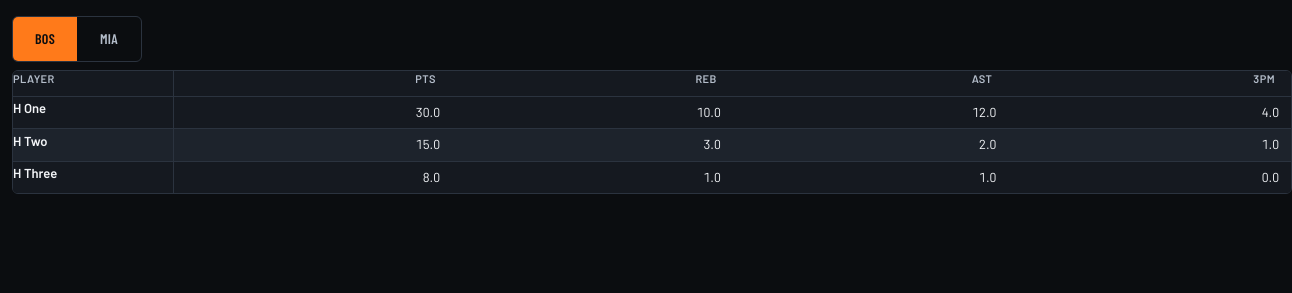
it: PlayerBoxScore › keeps the actual-totals row well formed when only one side has actuals
The image size is (1292, 293).
Click the button "MIA": click(109, 39) [77,17,141,61]
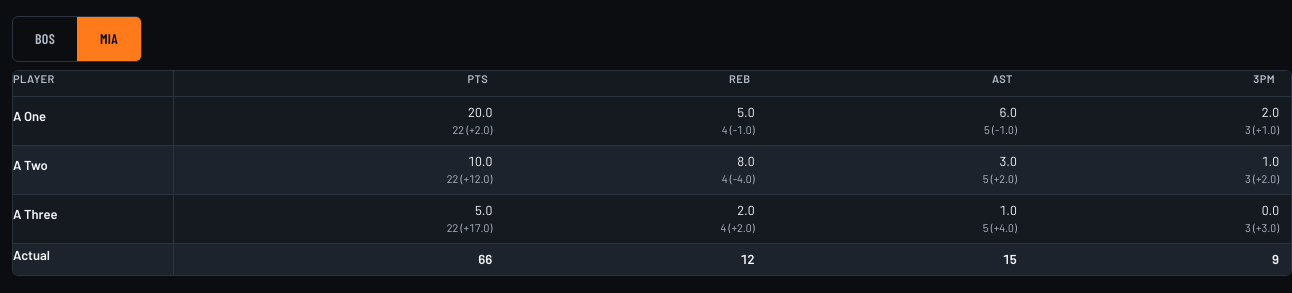
Click the button "BOS": click(45, 39) [13,17,77,61]
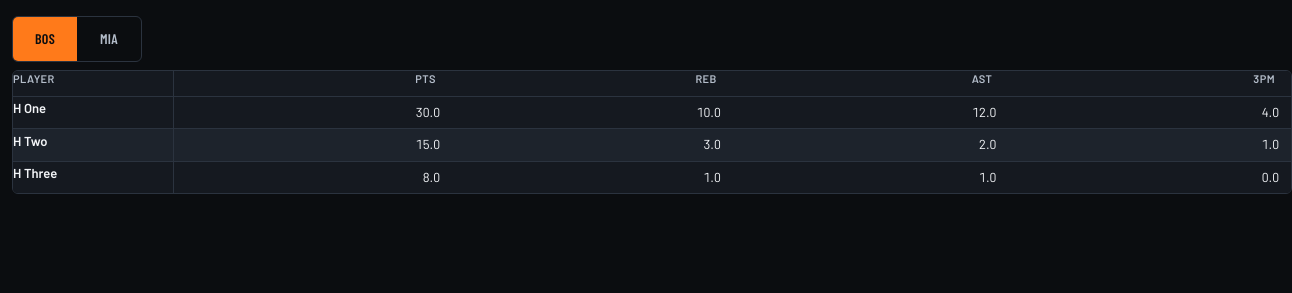
Result: the row with test id "box-score-actual-totals" is gone
